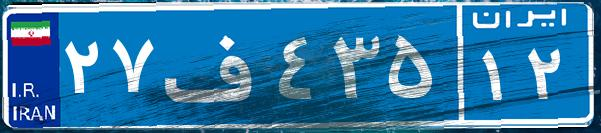1: (475, 38, 525, 113)
2: (57, 26, 110, 107), (525, 38, 570, 115)
3: (330, 28, 385, 110)
4: (273, 28, 330, 110)
5: (385, 28, 445, 110)
7: (110, 28, 158, 105)
ف: (158, 15, 273, 115)
